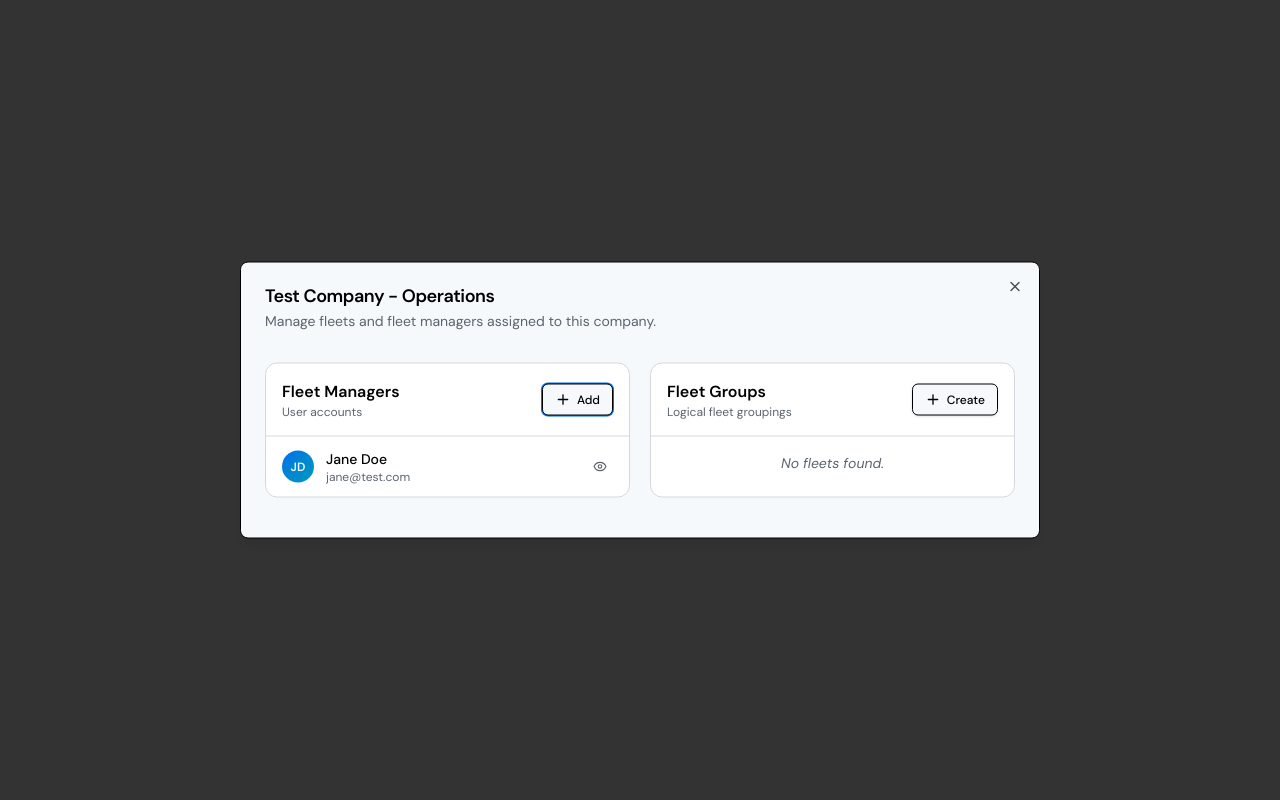
Scenario: CompanyOperations Component › displays manager details
The image size is (1280, 800).
Check: the text "Jane Doe" is shown, box [326,450,387,468]
Click the button named "View details for Jane Doe" at (600, 466), box [587,454,613,480]
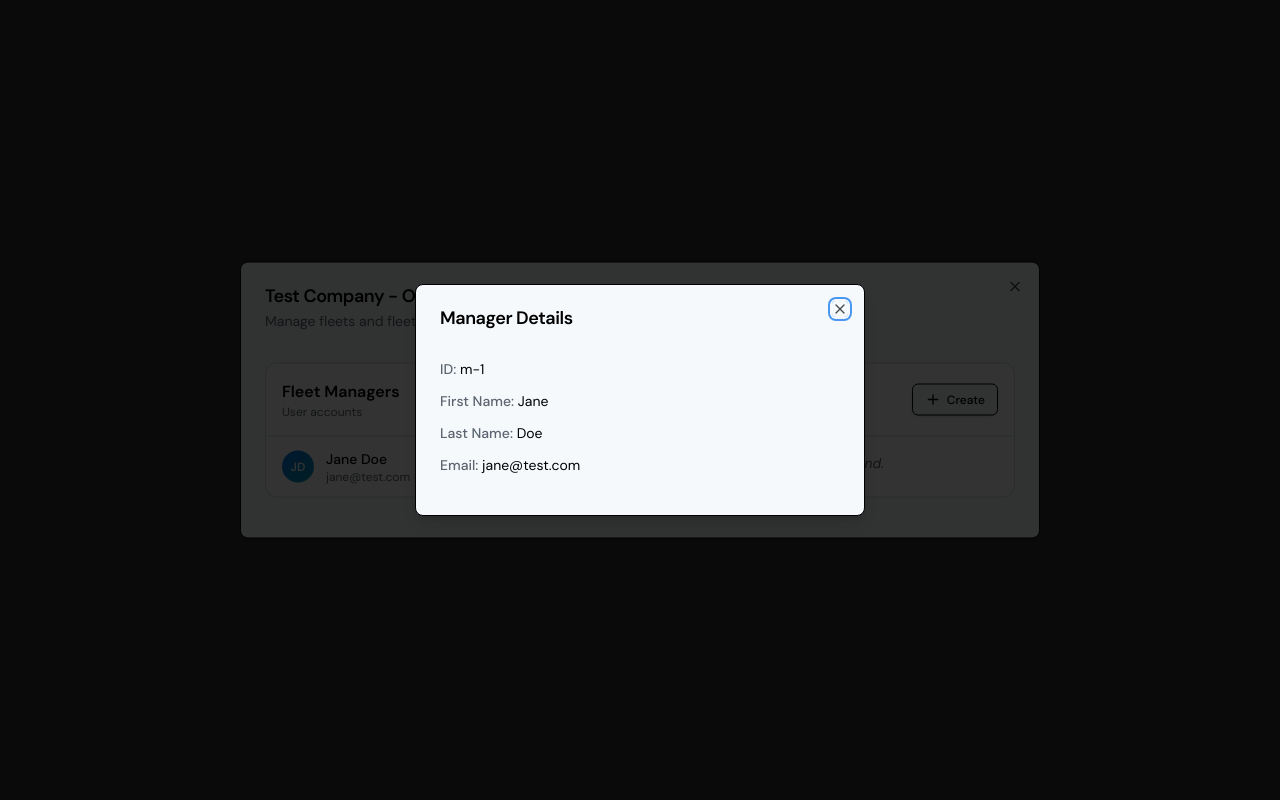
Check: the text "jane@test.com" is shown, box [326,468,410,484]
Check: the heading "Manager Details" is shown, box [440,306,573,330]
